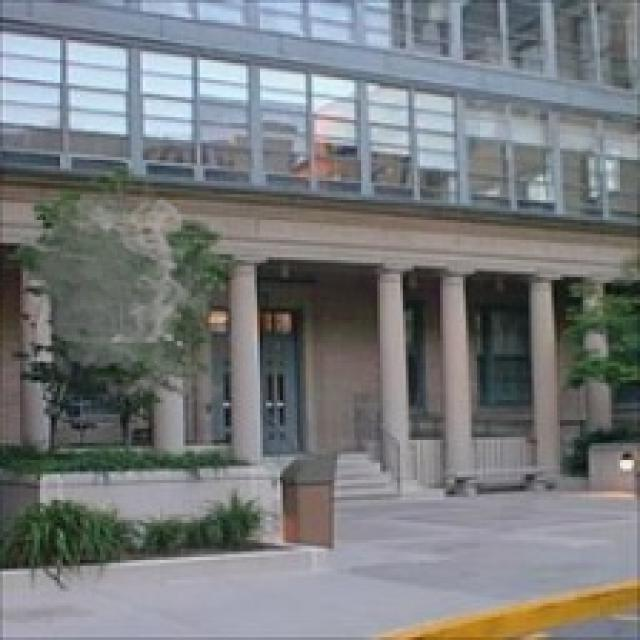Smoke: (12, 192, 255, 412)
